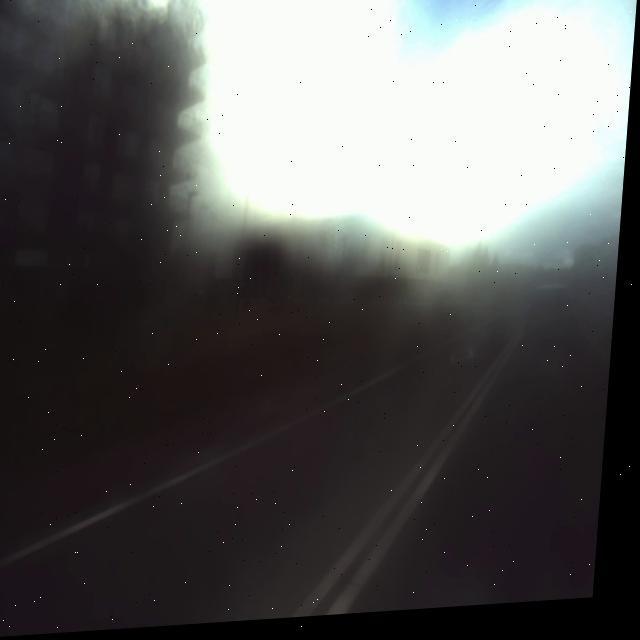car: (530, 277, 586, 358)
